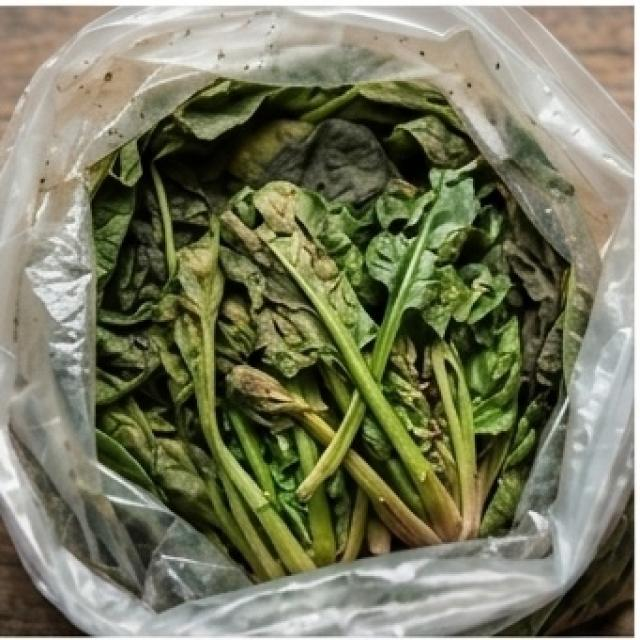rotten spinach: (9, 33, 592, 622)
